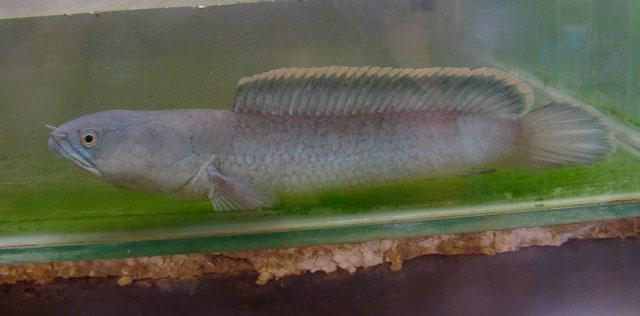Mulut: (32, 113, 100, 181)
Sirip Dada: (194, 165, 286, 225)
Sirip Ekor: (517, 94, 627, 176)
Sirip Punggung: (222, 59, 538, 122)
